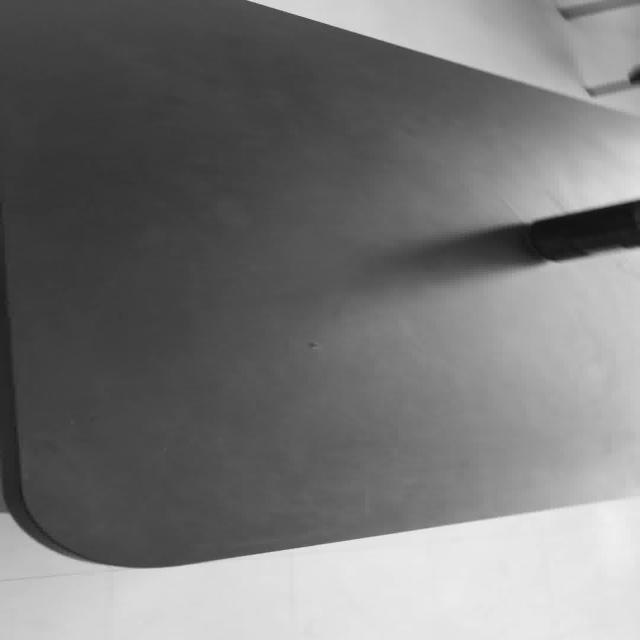tonic: (2, 0, 637, 569), (525, 198, 638, 262)
